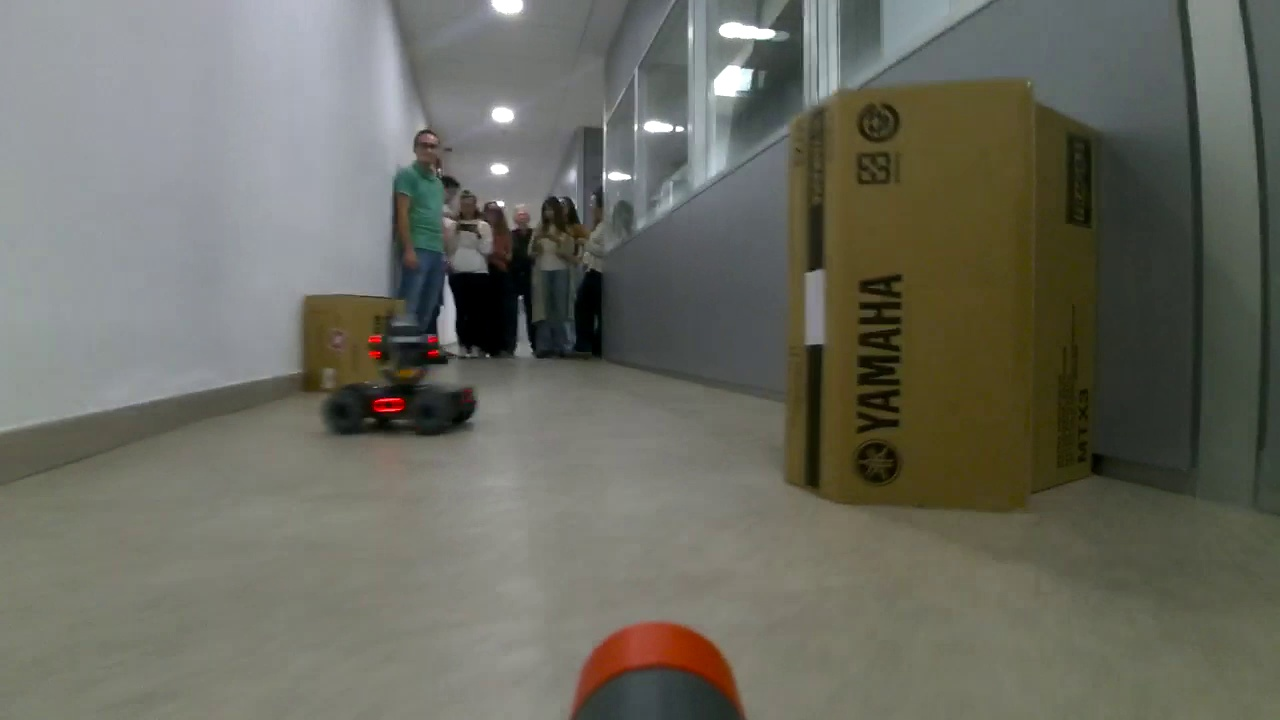robot: (318, 315, 482, 438)
